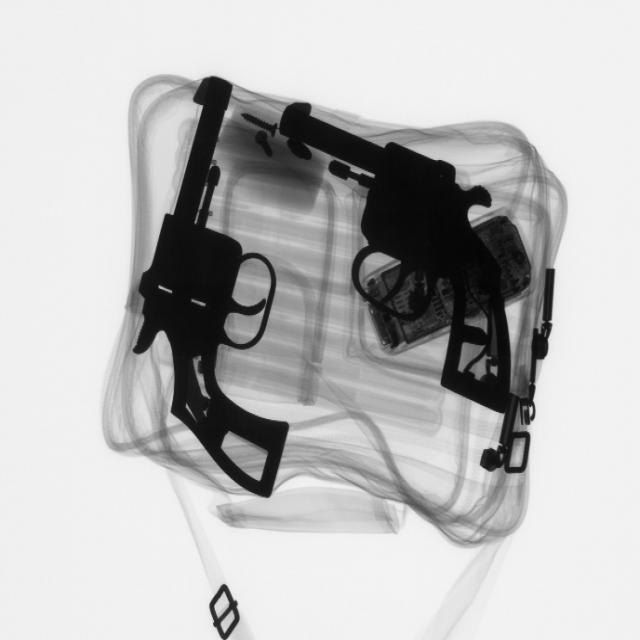GUN: (126, 75, 294, 504), (296, 96, 505, 424)
